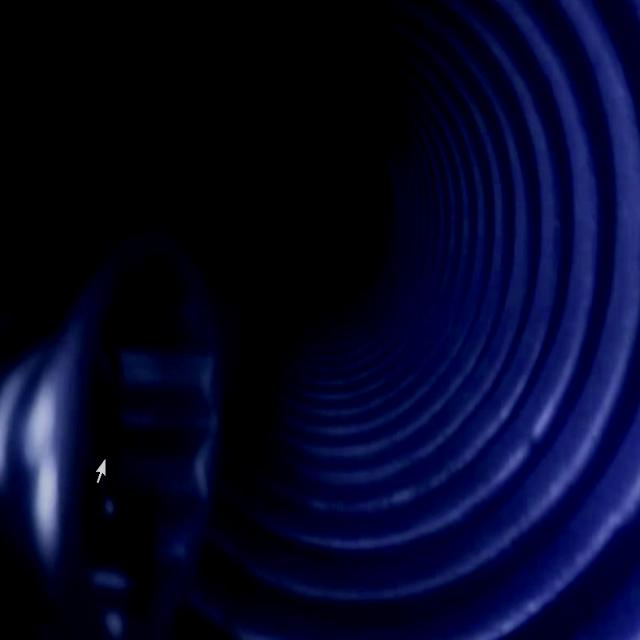metal piece: (0, 221, 227, 640)
